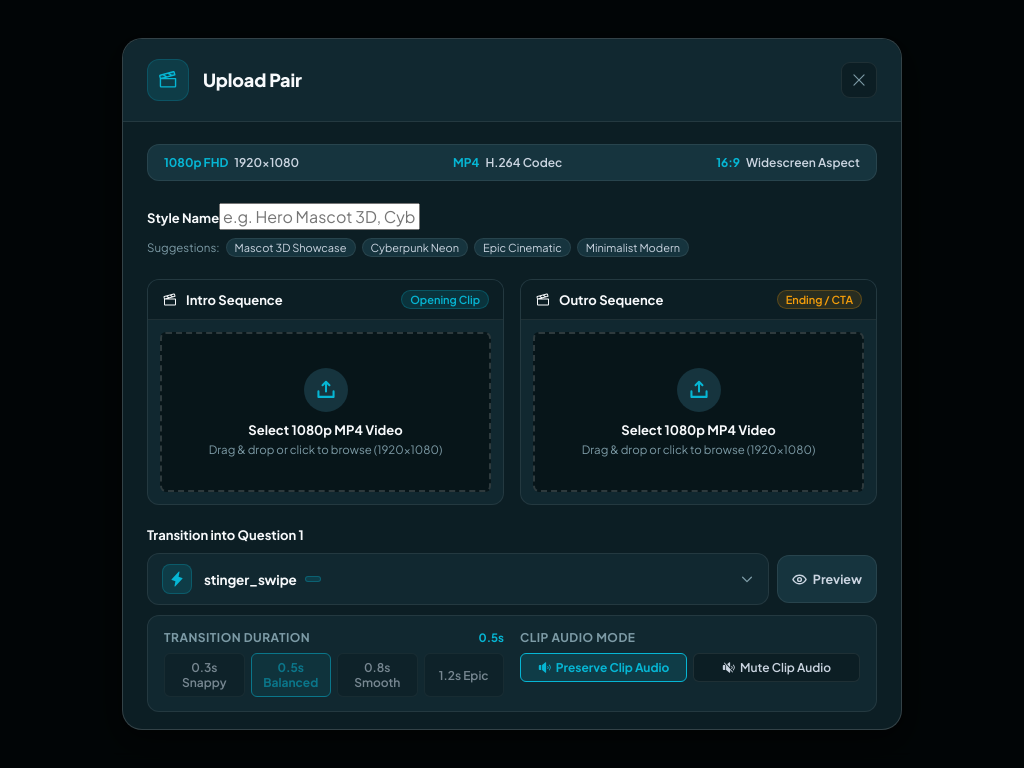
it: CreateIntroOutroModal › populates Style Name when clicking suggestion chips
Expected: the field labelled "Style Name" is empty, [219,203,420,230]
Click the button "Mascot 3D Showcase".
click(290, 248)  # box [226,238,356,257]
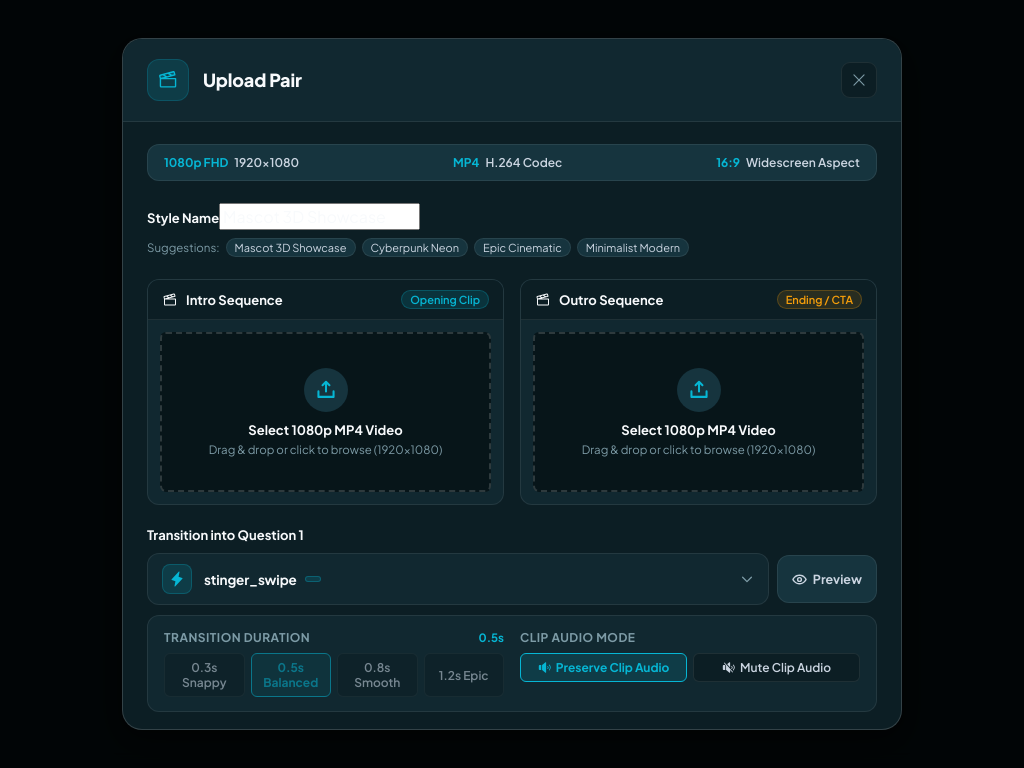
Expected: the field labelled "Style Name" holds "Mascot 3D Showcase", [219,203,420,230]
